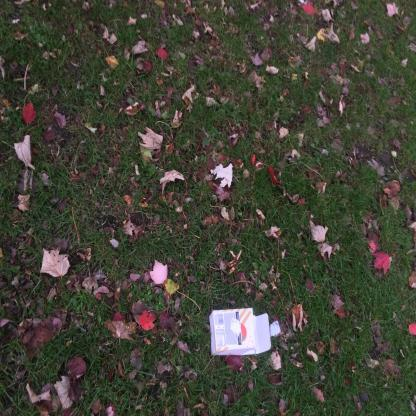karton: (209, 307, 271, 357)
